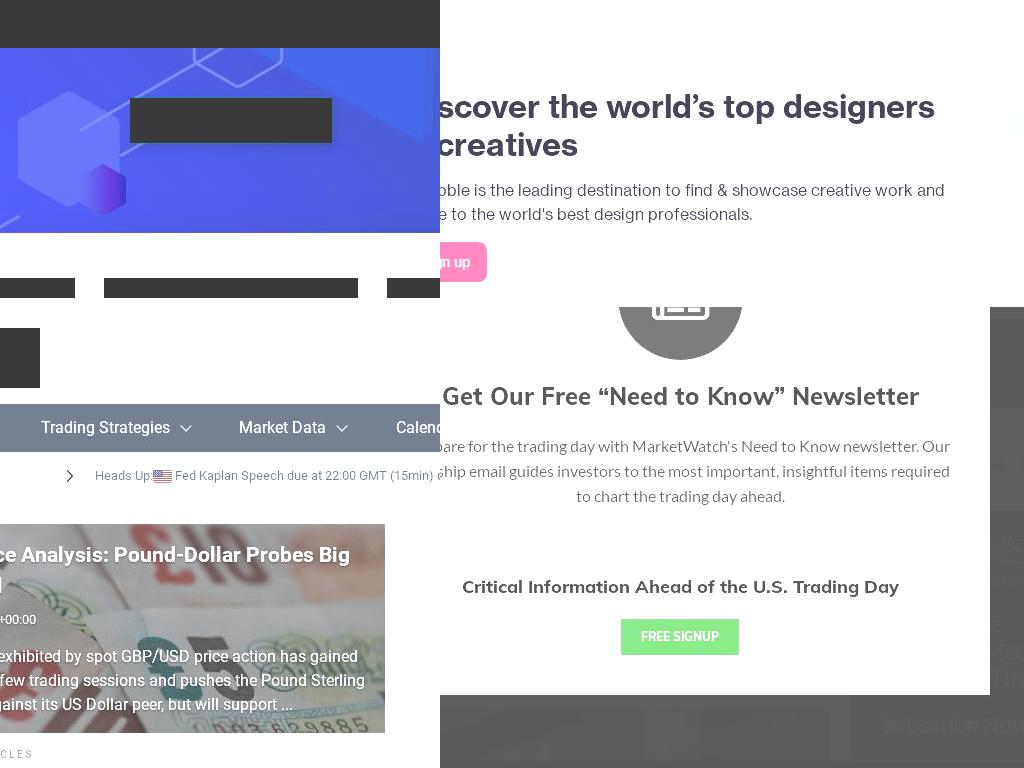button: (0, 524, 385, 733), (440, 708, 830, 768), (0, 452, 440, 500), (850, 469, 1024, 523), (850, 376, 1024, 429), (850, 563, 1024, 616), (130, 98, 332, 143), (850, 335, 1024, 376), (850, 429, 1024, 470), (850, 522, 1024, 563), (40, 408, 190, 448), (850, 307, 1024, 336), (621, 618, 739, 655), (239, 408, 347, 448), (0, 328, 40, 388), (440, 242, 487, 282), (395, 408, 440, 448)
heading: (440, 510, 827, 698), (440, 86, 965, 162), (440, 379, 950, 413), (440, 574, 950, 599), (104, 278, 358, 298), (0, 278, 75, 298), (387, 278, 440, 298)
iframe: (440, 318, 1024, 408), (850, 510, 1024, 760)
image: (440, 708, 830, 768), (850, 616, 1024, 697), (617, 307, 743, 360), (0, 328, 40, 388), (153, 466, 173, 487), (64, 470, 76, 482)
link: (0, 645, 369, 717), (0, 540, 369, 602), (0, 610, 369, 629), (599, 458, 690, 473), (517, 458, 585, 473), (444, 458, 503, 473), (953, 458, 1007, 473), (800, 458, 846, 473), (858, 348, 903, 362), (858, 395, 903, 409), (858, 442, 903, 456), (858, 535, 903, 549), (858, 582, 903, 596), (903, 344, 955, 356), (903, 531, 955, 543), (858, 489, 903, 502), (903, 384, 955, 395), (860, 458, 898, 473), (704, 458, 739, 473), (753, 458, 786, 473), (912, 458, 939, 473), (858, 307, 903, 315)
text: (440, 432, 950, 508), (440, 178, 965, 226), (0, 0, 440, 48), (95, 416, 440, 436), (903, 380, 1024, 424), (903, 474, 1024, 517), (903, 568, 1024, 610), (172, 467, 438, 483), (903, 340, 1024, 371), (903, 527, 1024, 558), (903, 434, 1024, 463), (40, 416, 170, 440), (903, 307, 1024, 331), (239, 416, 327, 440), (395, 416, 440, 440), (95, 467, 153, 483)
